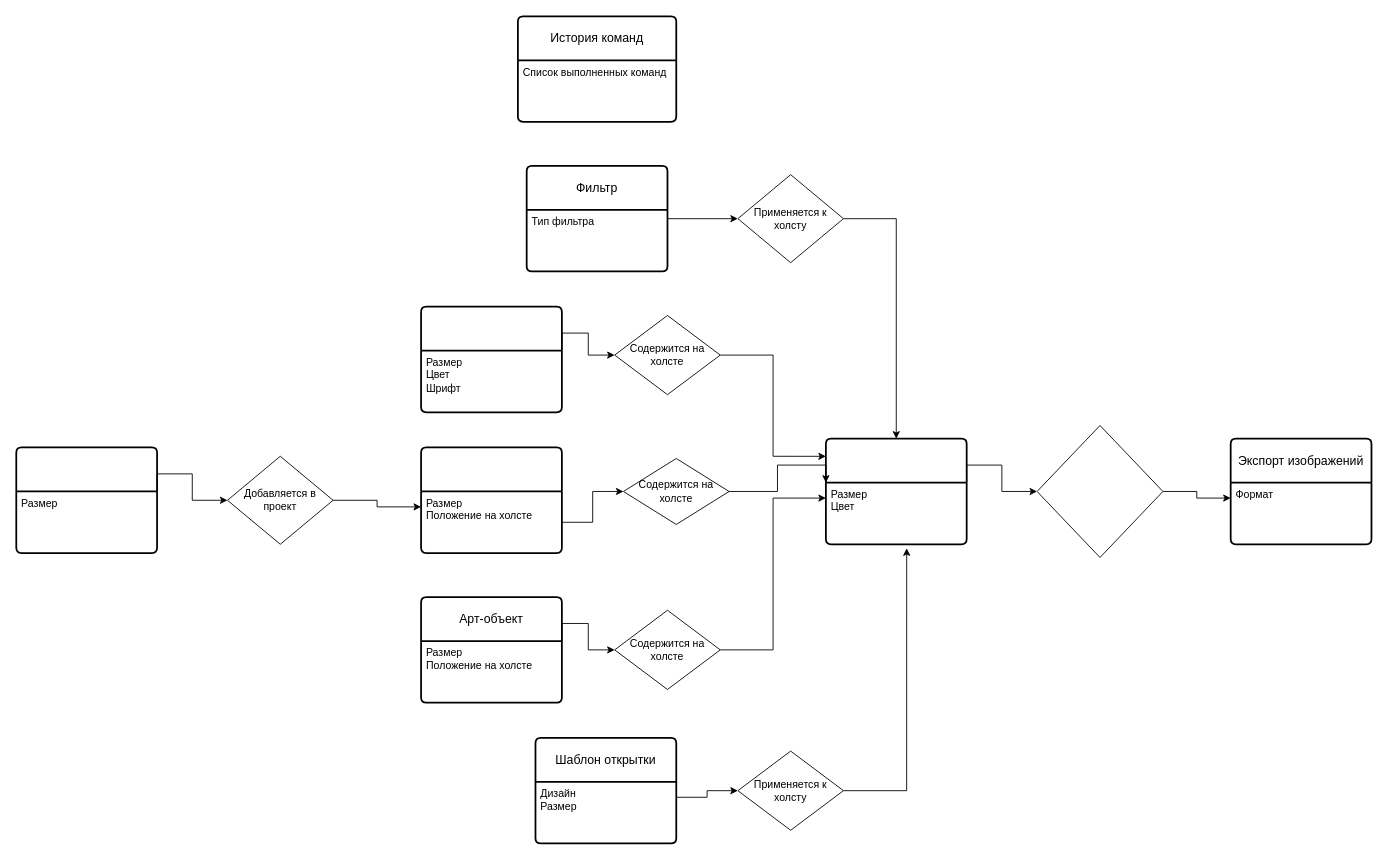
Image size: 1387x859. Some labels were removed from this diagram. Here are the shapes that lost their labels. From the top down, the box of each, then its label:
(420, 305, 562, 413): Текст
(15, 446, 158, 554): Импорт изображений
(420, 446, 562, 554): Изображение
(825, 437, 967, 545): Холст
(1036, 425, 1163, 557): Передаем готовое изображение в виде файла
